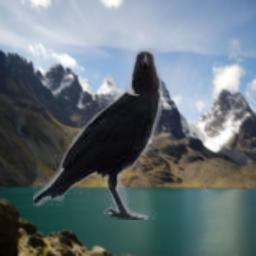Crow: (33, 48, 163, 220)
